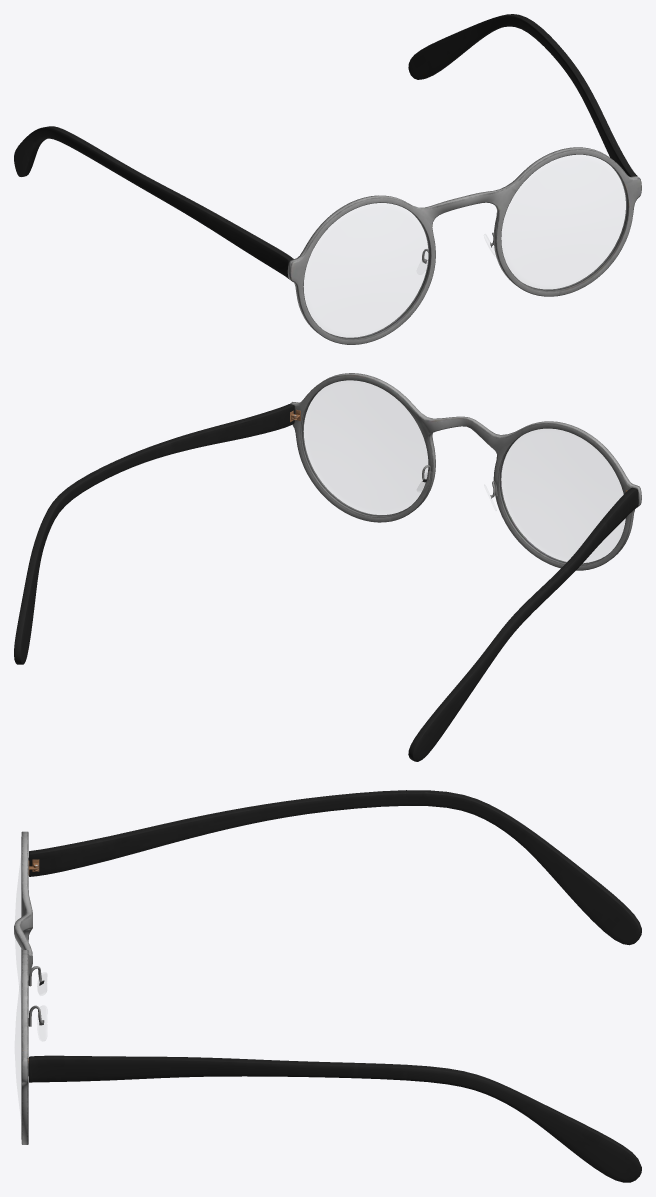
Rendered from spectacles.glb.
3 renders of one model, top to bottom at view 1: azimuth 30°, elevation 25°; view 2: azimuth 150°, elevation 25°; view 3: azimuth 270°, elevation 25°, orthographic. The views are drawn at different scales.
Parts seen in each view (by area): view 1: round_spectacles; view 2: round_spectacles; view 3: round_spectacles.
Part boxes in pixels (x1,y1,x2,y2): round_spectacles: (14,14,641,344); round_spectacles: (14,373,641,761); round_spectacles: (14,790,641,1182).
Bounding box in the file's own units: 0.1578 × 0.0463 × 0.149.
Materials: 2 (1 with a texture image).
